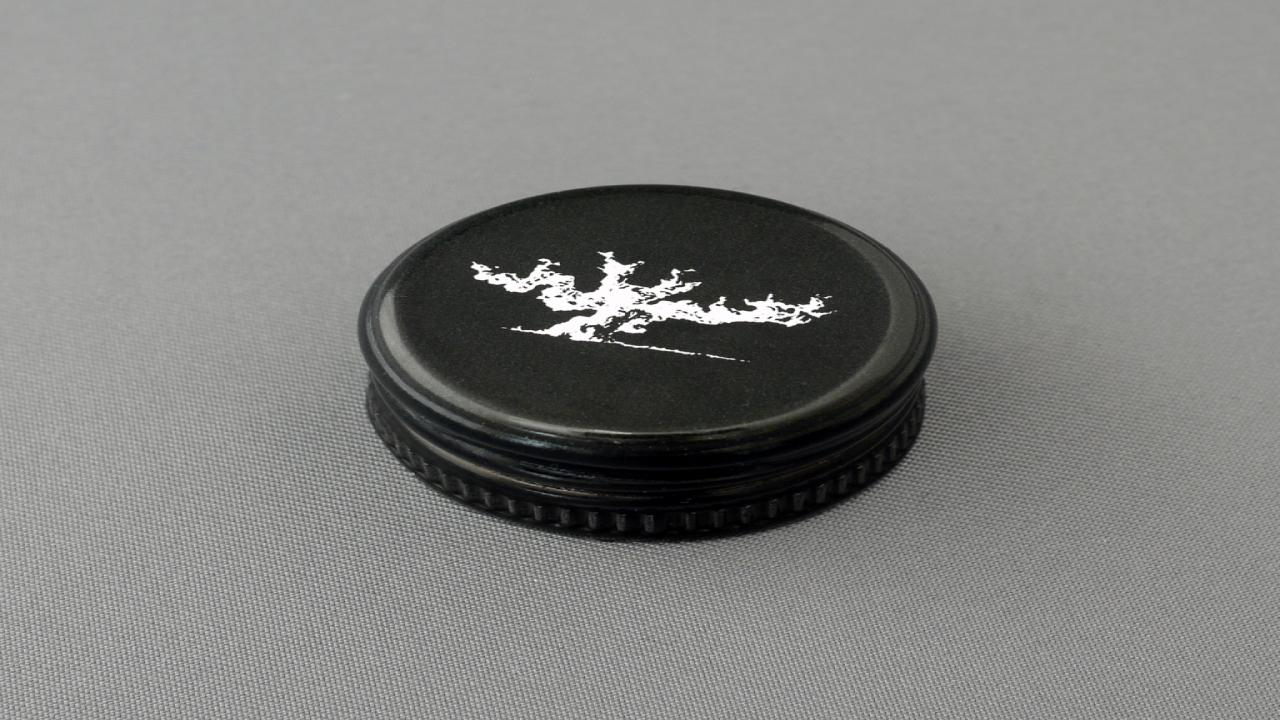bottle_cap: (352, 181, 939, 544)
